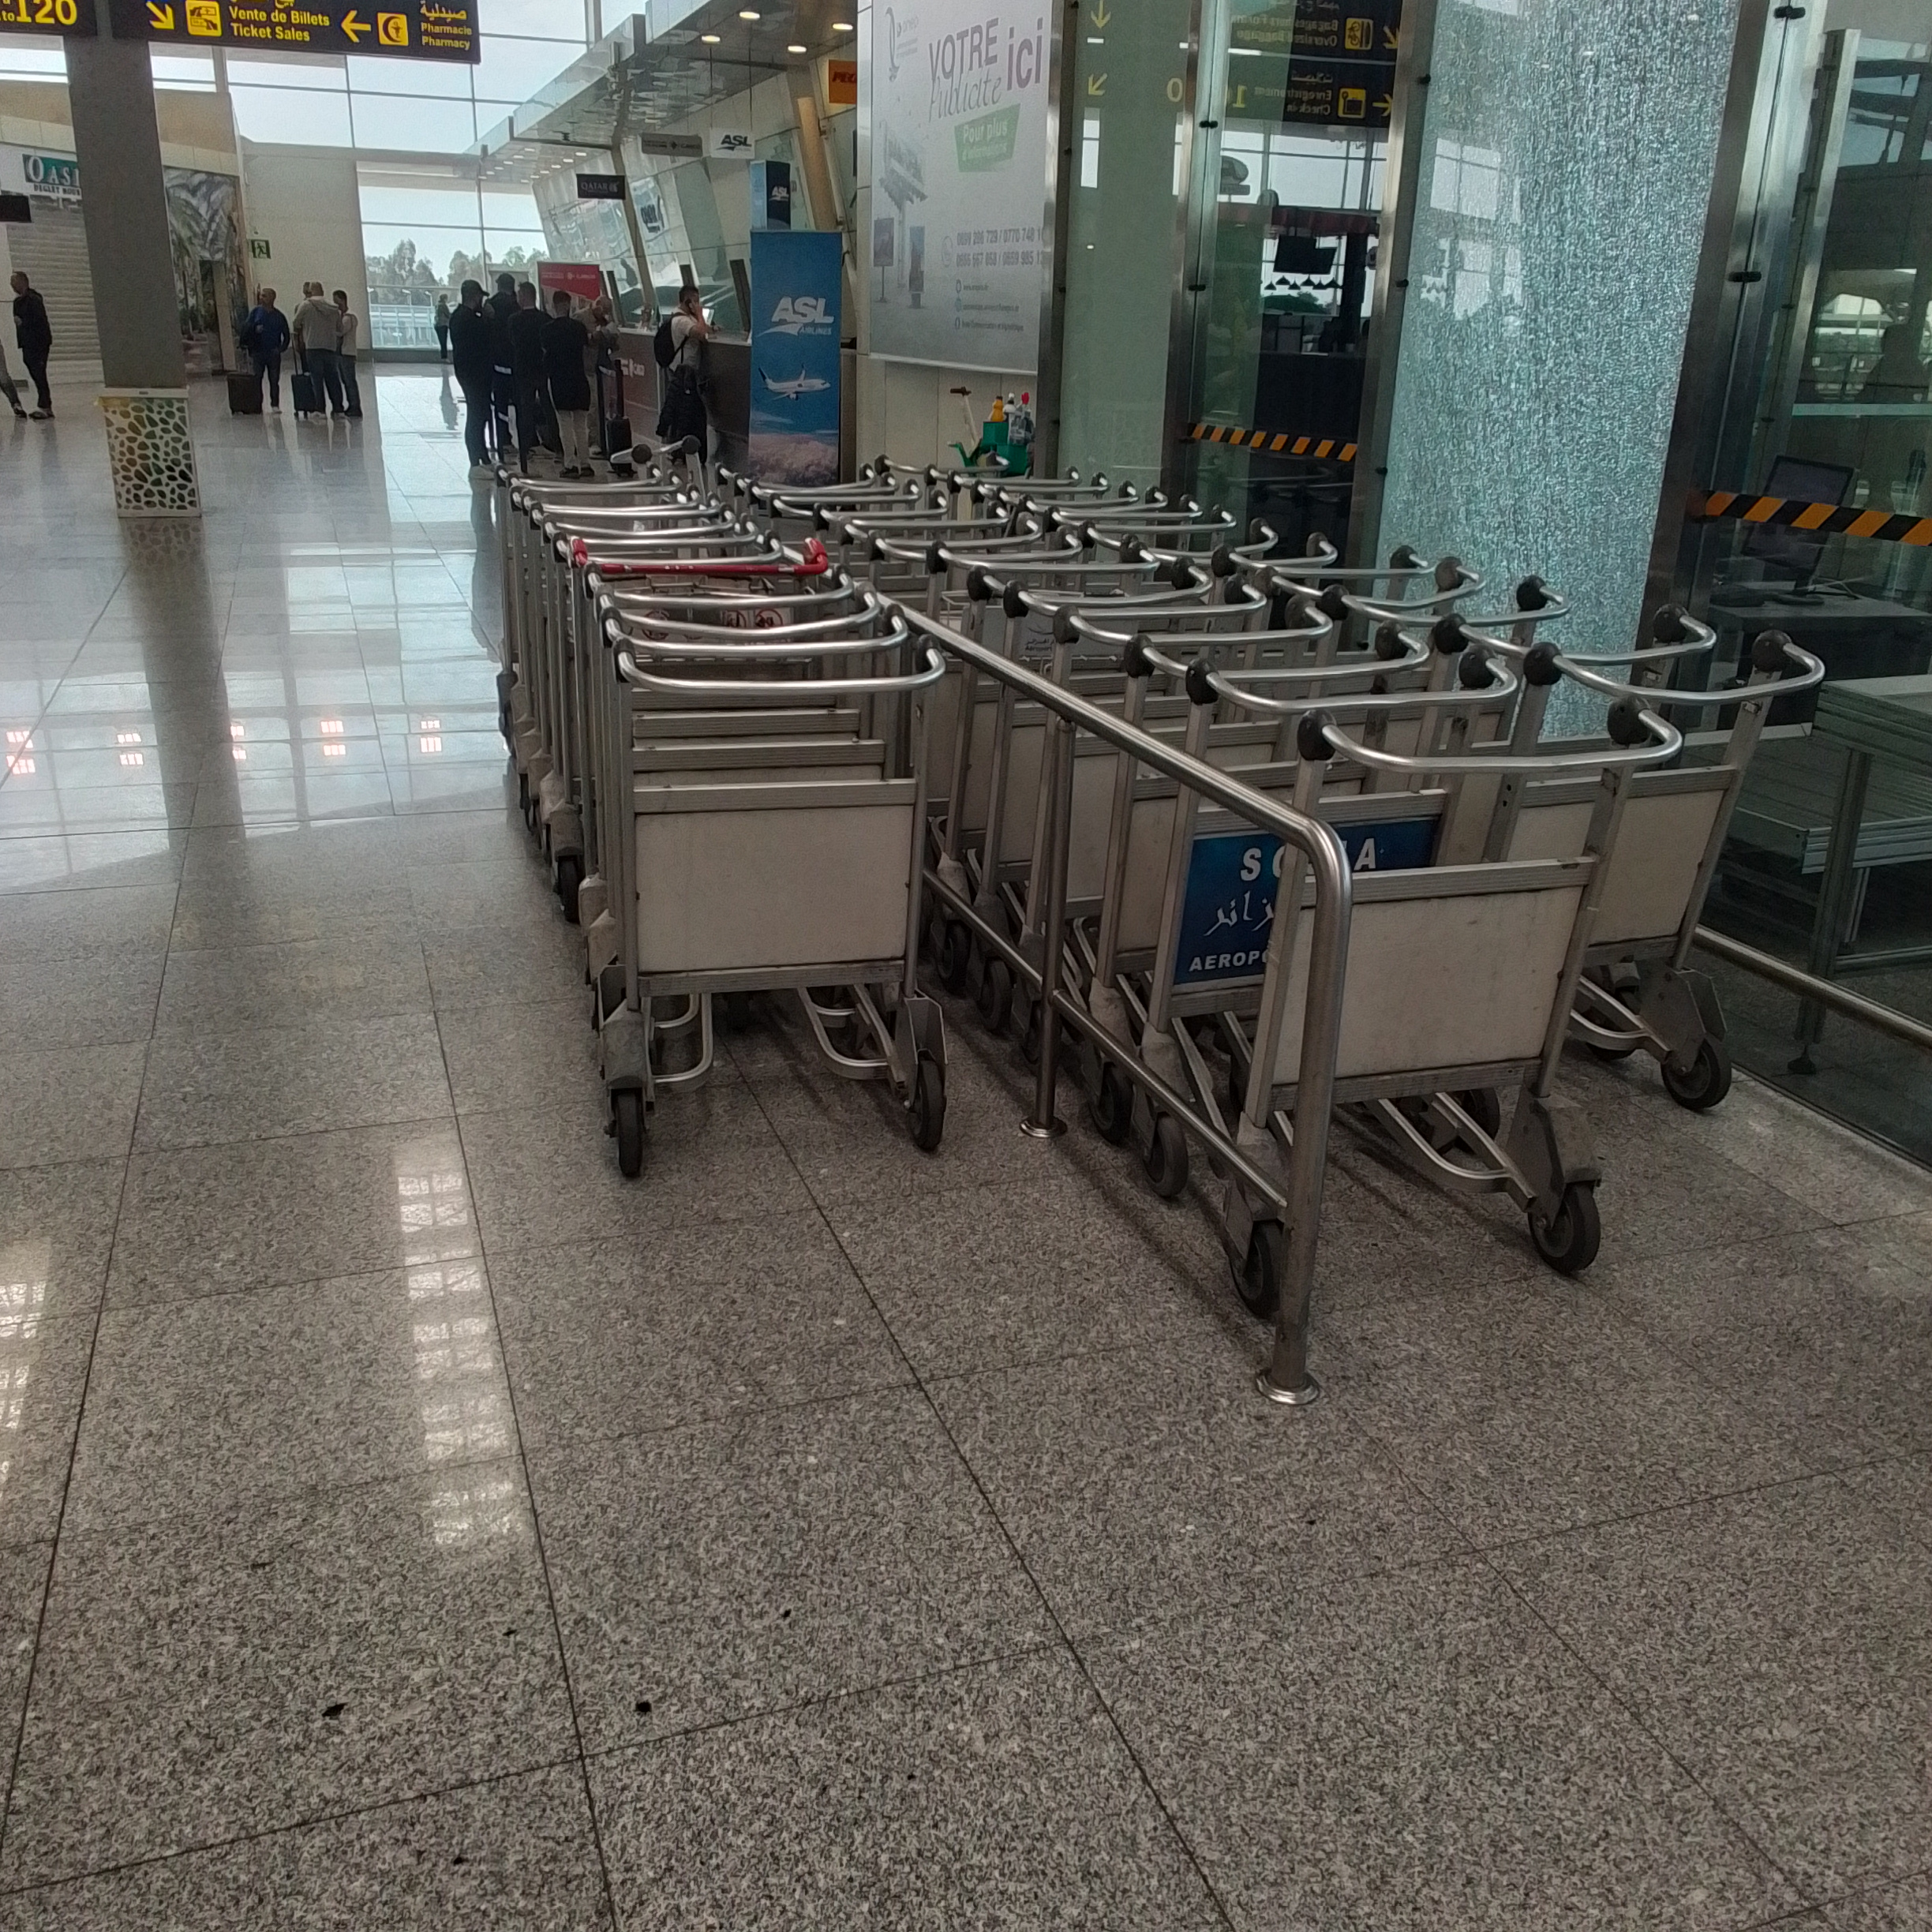airport-trolley: (1256, 701, 1663, 1311)
